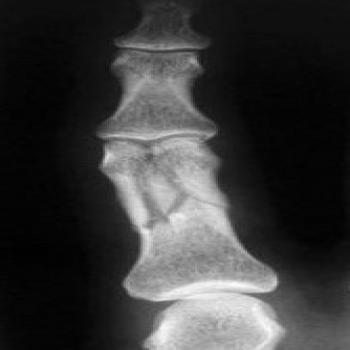Fracture: (110, 142, 263, 234)
